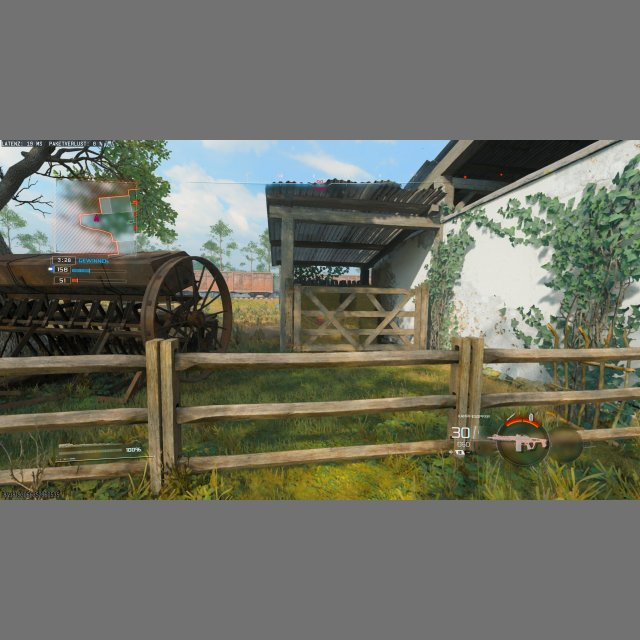player: (166, 287, 209, 353)
